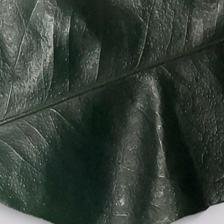healthy: (2, 4, 224, 224)
